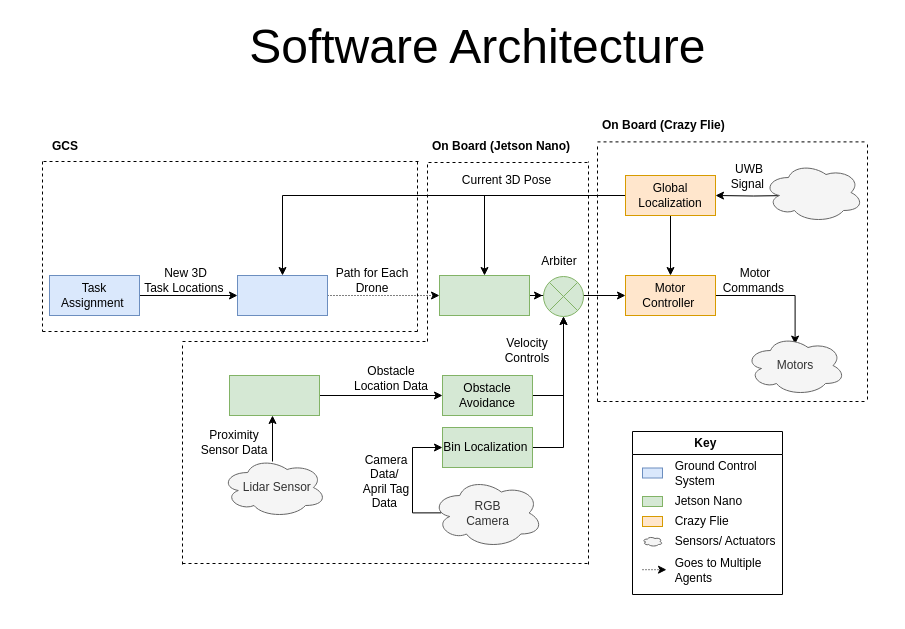
Image size: 905x629. Some labels were removed from this diagram. The centre of each missing label's shape, as x and y in pixels:
"Multi Agent Path Planning" goes at point (282, 295).
"Obstacle Detection" goes at point (274, 395).
"Path Following" goes at point (484, 295).
"UWB Sensors" goes at point (813, 192).
